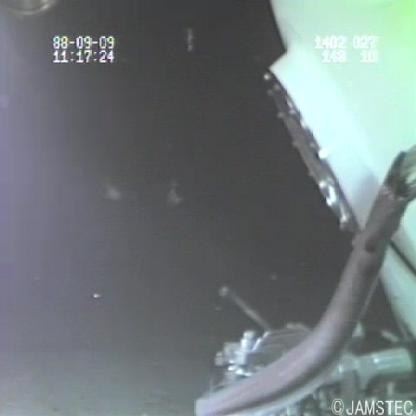Bio: (189, 142, 415, 415)
Rov: (258, 1, 416, 237), (209, 324, 414, 416)
